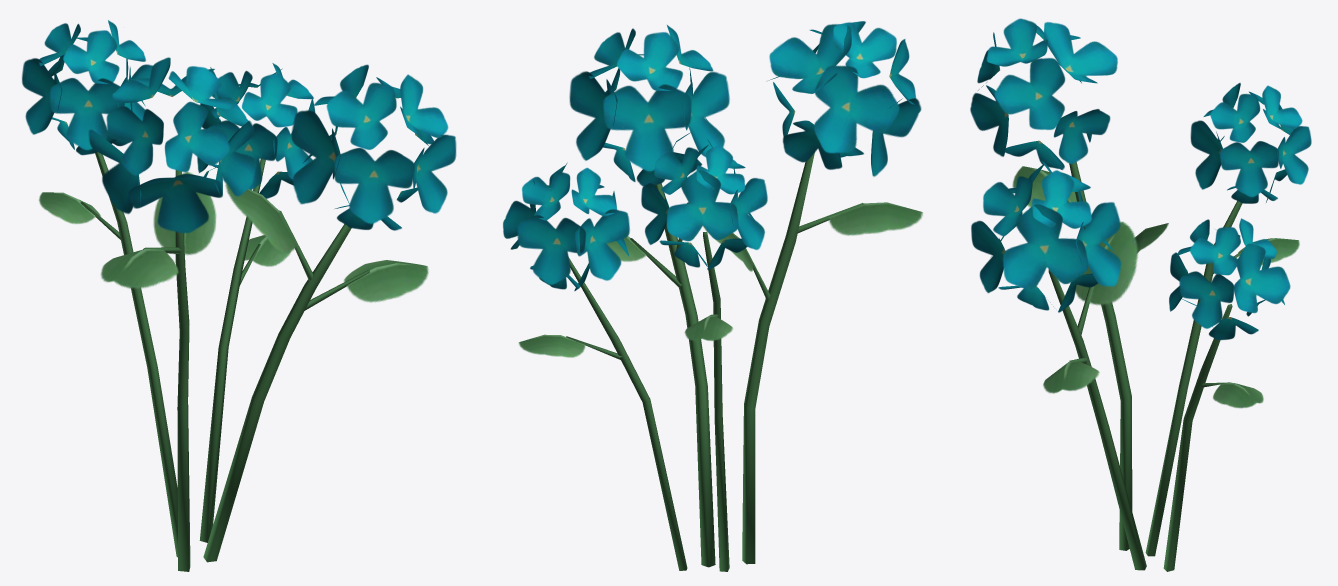
File: flowers-6.glb
3 views of the same model, side by side, from view 1: azimuth 30°, elevation 25°; view 2: azimuth 150°, elevation 25°; view 3: azimuth 270°, elevation 25° (orthographic). The views are drawn at different scales.
Parts seen in each view (by area): view 1: Flower_1_Clump; view 2: Flower_1_Clump; view 3: Flower_1_Clump.
Boxes of the visible parts, x1=… form: Flower_1_Clump: x1=22, y1=20, x2=456, y2=571; Flower_1_Clump: x1=503, y1=21, x2=922, y2=571; Flower_1_Clump: x1=970, y1=18, x2=1311, y2=571.
Bounding box in the file's own units: 0.4711 × 0.6713 × 0.4352.
Materials: 1 (1 with a texture image).
